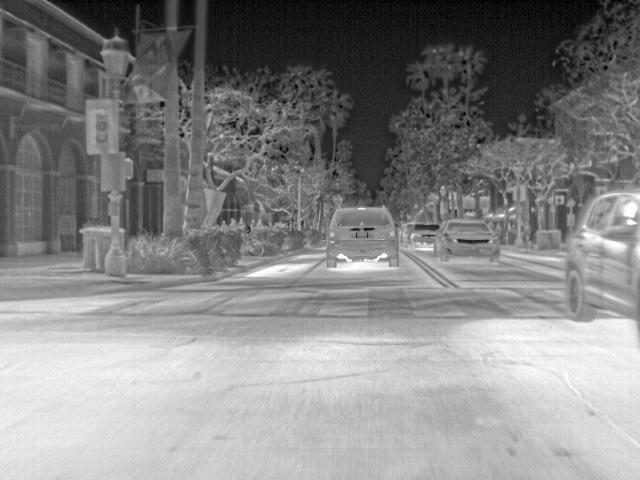car: (564, 190, 640, 322), (326, 204, 398, 268), (432, 218, 501, 260), (404, 220, 444, 253)
person: (237, 216, 250, 232), (228, 218, 240, 232), (218, 220, 230, 232)
